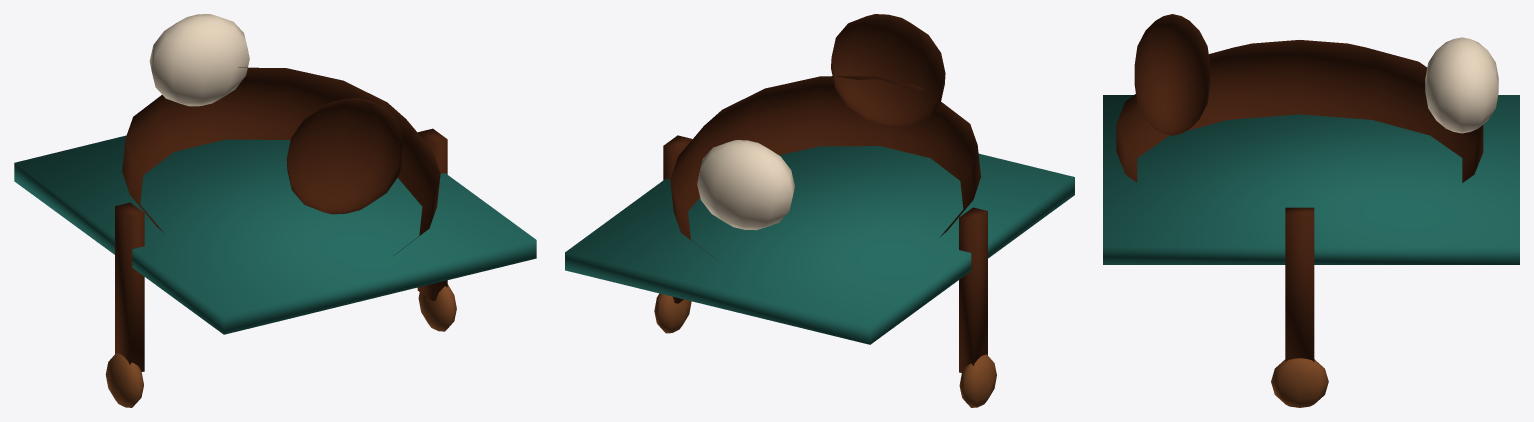
File: sattel.glb
3 views of the same model, side by side, from view 1: azimuth 30°, elevation 25°; view 2: azimuth 150°, elevation 25°; view 3: azimuth 270°, elevation 25° (orthographic). The views are drawn at different scales.
Visible parts, largest first — view 1: RanchSattel; view 2: RanchSattel; view 3: RanchSattel.
Part boxes in pixels (left/top/right/bottom): RanchSattel: left=14, top=14, right=536, bottom=407; RanchSattel: left=565, top=14, right=1074, bottom=407; RanchSattel: left=1103, top=14, right=1519, bottom=407.
Size of the model in its own units: 0.67 by 0.5935 by 0.72.
Materials: 1 (1 with a texture image).
